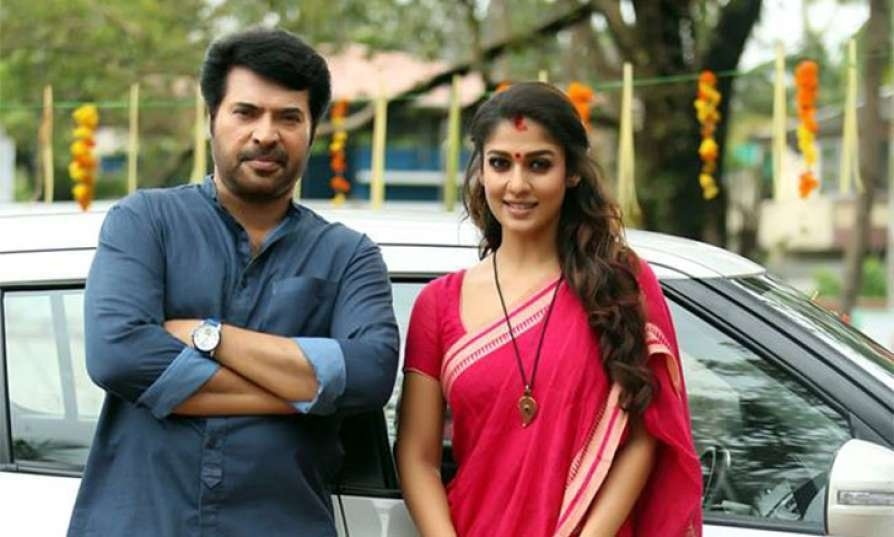face_no_mask: (201, 34, 329, 194), (473, 87, 583, 231)
